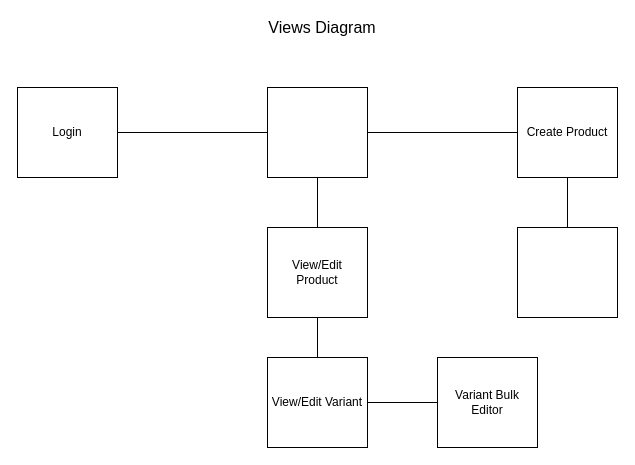
Some shapes in this 635 by 465 pixel diagram are drawn without their labels. Here are the shapes that lost their labels. From the top down, the centre of each, then its label:
pixel 317 132: Product List
pixel 567 272: Create Variant
